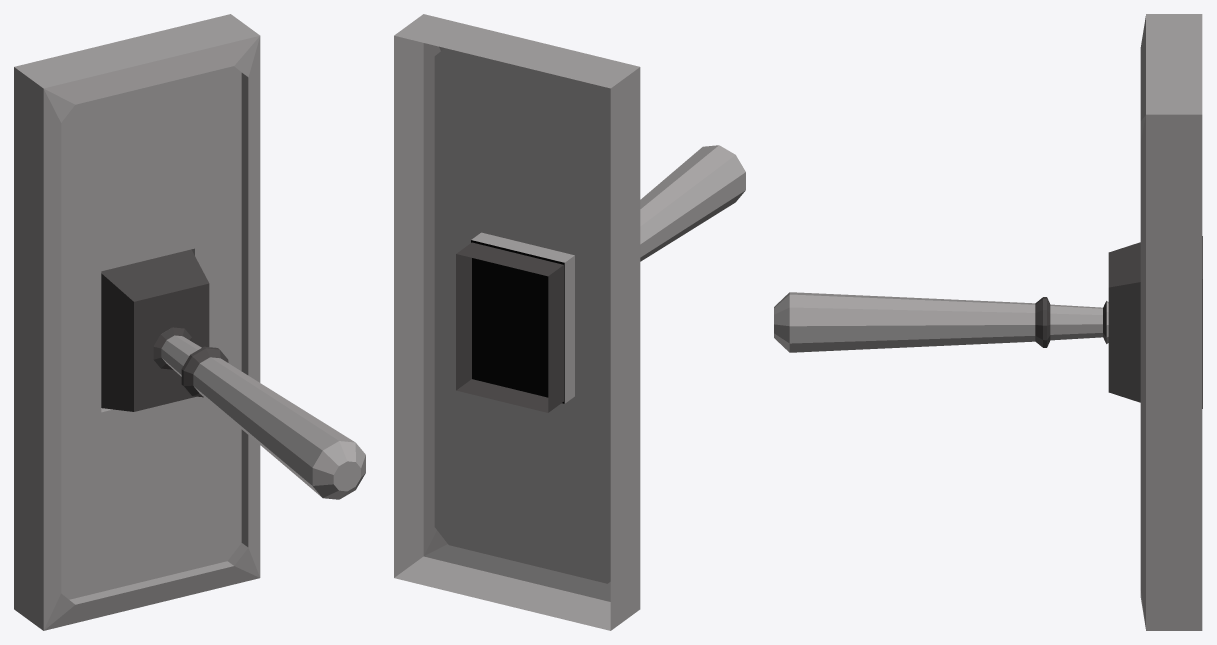
File: MetalFloorLever_9.fbx
The picture shows the model from 3 angles, left to right: view 1: azimuth 30°, elevation 25°; view 2: azimuth 150°, elevation 25°; view 3: azimuth 270°, elevation 25°; orthographic projection. The views are drawn at different scales.
Parts seen in each view (by area): view 1: MetalFloorLever_9_Casing, MetalFloorLever_9_Handle; view 2: MetalFloorLever_9_Casing, MetalFloorLever_9_Handle; view 3: MetalFloorLever_9_Casing, MetalFloorLever_9_Handle.
Boxes of the visible parts, x1,y1,x2,y2 form: MetalFloorLever_9_Casing: (14, 14, 260, 630); MetalFloorLever_9_Handle: (101, 249, 365, 499); MetalFloorLever_9_Casing: (394, 14, 640, 630); MetalFloorLever_9_Handle: (456, 145, 745, 412); MetalFloorLever_9_Casing: (1140, 14, 1202, 630); MetalFloorLever_9_Handle: (774, 236, 1202, 408).
Bounding box in the file's own units: 28.52 × 68.19 × 51.33.
